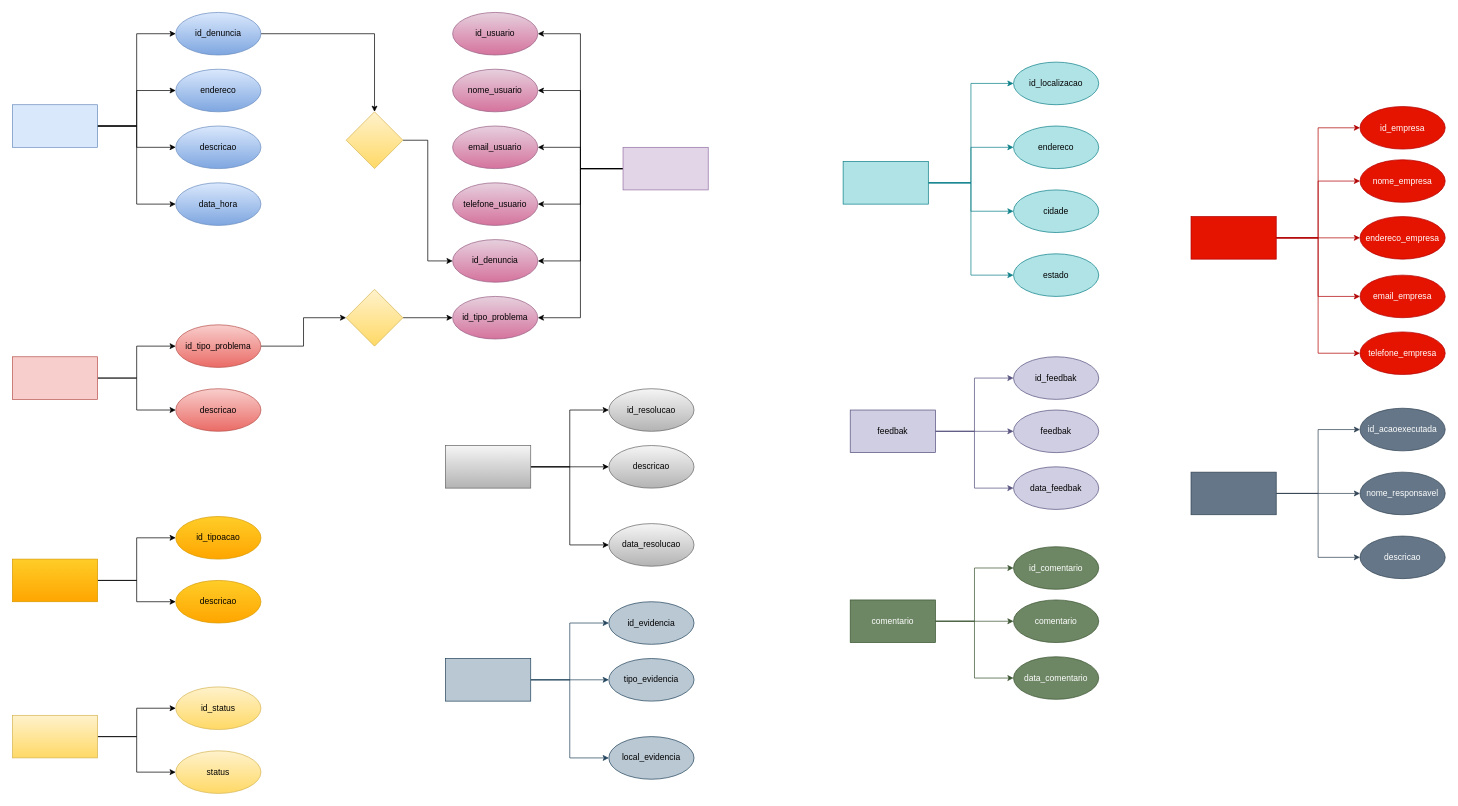
Some shapes in this 1458 by 806 pixel diagram are drawn without their labels. Each missing label, with the centre of its shape:
"acao_executada" goes at pixel 1233 493.
"denuncias" goes at pixel 55 125.
"empresa_responsavel" goes at pixel 1233 237.
"evidencia" goes at pixel 488 679.
"localizacao" goes at pixel 885 182.
"resolucao" goes at pixel 488 466.
"status_denuncia" goes at pixel 55 736.
"tipo_acao" goes at pixel 55 580.
"tiposproblemas" goes at pixel 55 377.
"usuario" goes at pixel 665 168.
